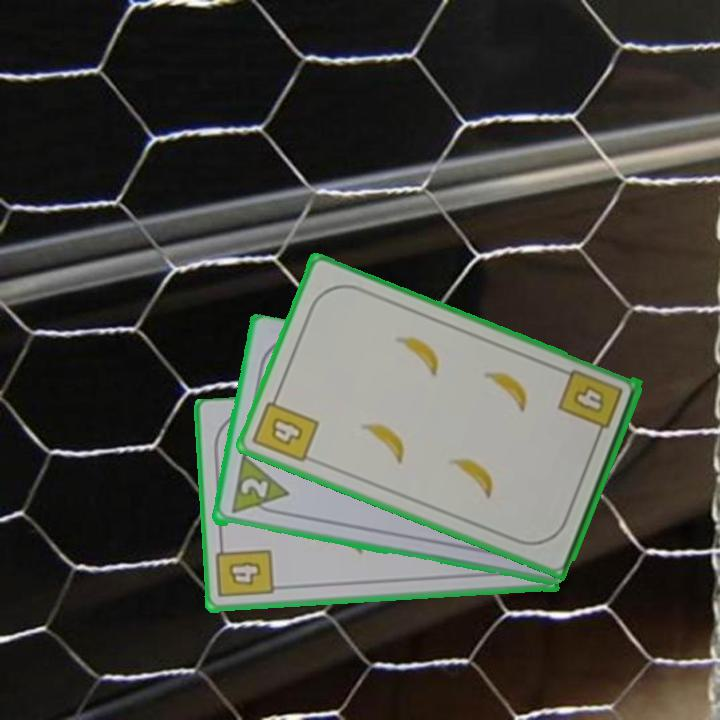2p: (236, 474, 271, 501)
4b: (249, 388, 322, 466), (554, 366, 626, 443), (213, 538, 277, 601)
